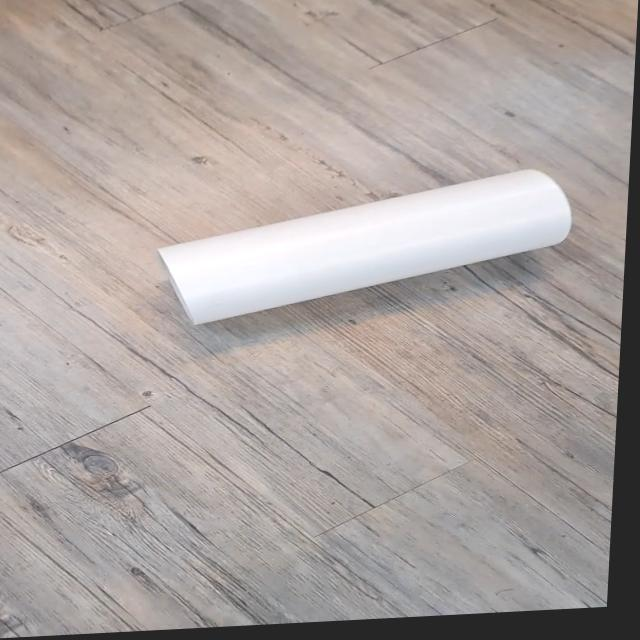CORAL: (134, 160, 586, 333)
